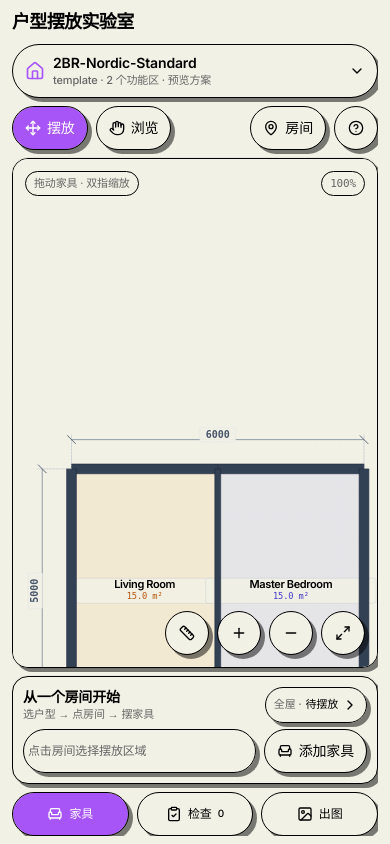
Test: Mobile Floor Plan Editor Ergonomics (AC-5, AC-4, AC-27) › never displays an all-passed message for an unscaled plan without findings
This screenshot has width=390, height=844.
Click the button with test id "mobile-rules-btn" at (195, 814), box [137,792,253,836]
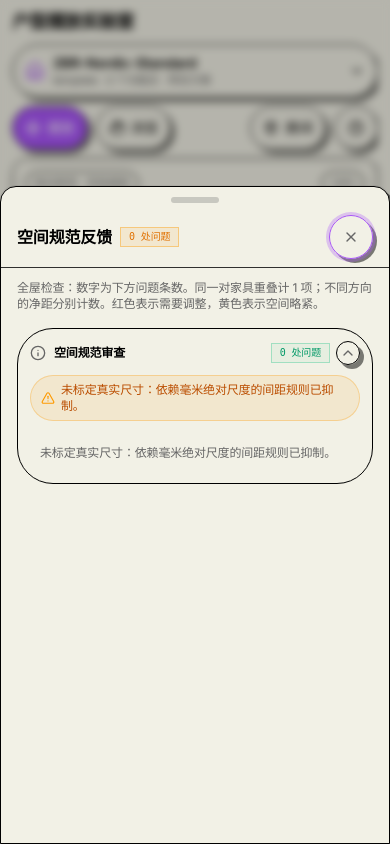
Check: the element with test id "unscaled-rule-notice" is shown, box [30,375,360,421]
